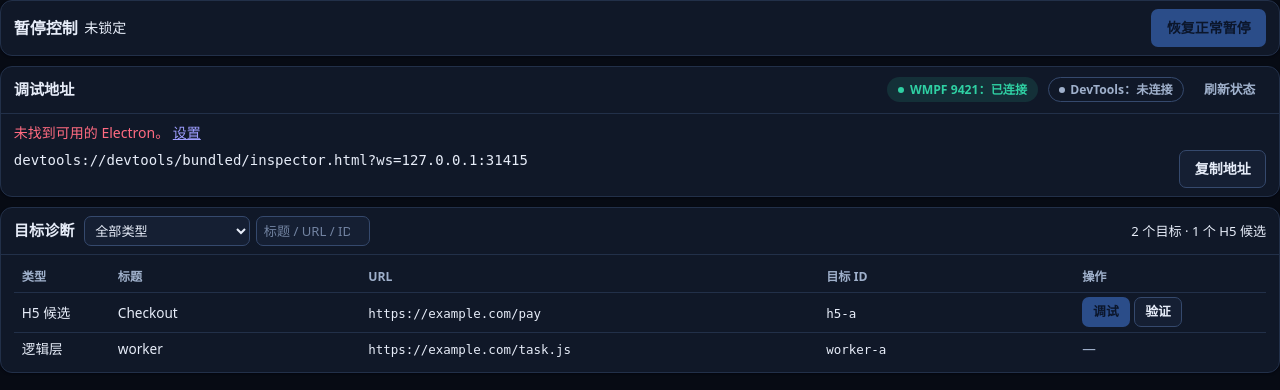
Test: DevtoolsView › filters targets locally by role and case-insensitive title, URL or ID
Select "H5 候选" in the dropdown with test id "target-role-filter" at (167, 231), box [84,216,250,246]
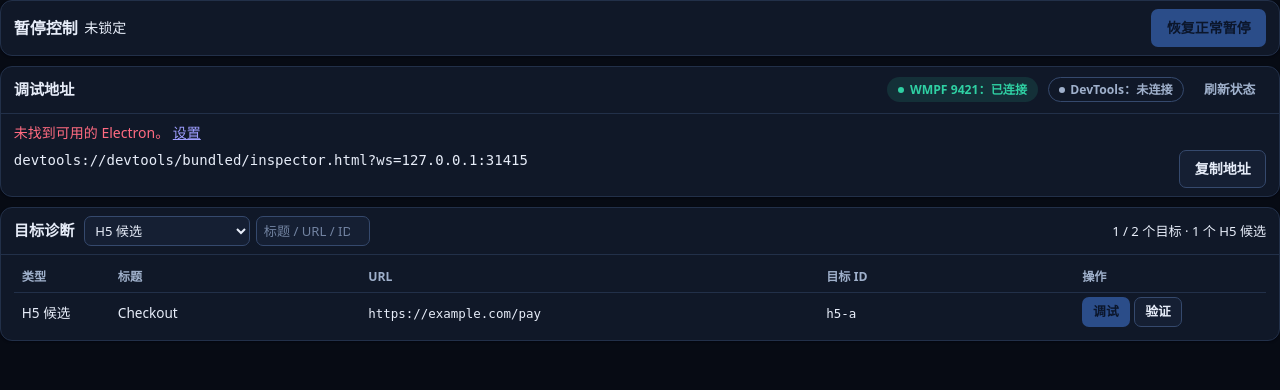
Expected: the number of rows with test id "target-row" is 1, [14,292,1266,332]
Type "CHECKOUT" into the search field with test id "target-search".
click(313, 231); type("CHECKOUT")  # box [256,216,370,246]
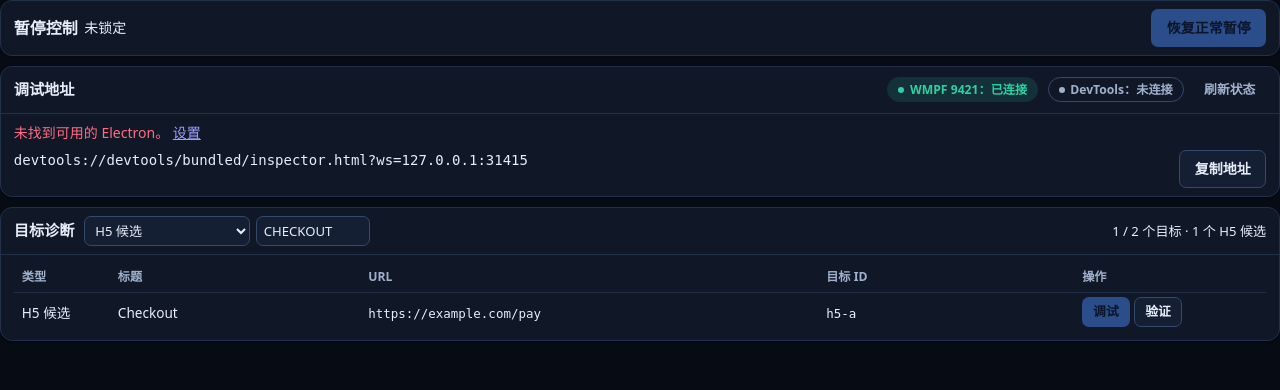
Expected: the row with test id "target-row" shows "h5-a", [826,306,856,321]
Replace the text in the search field with test id "target-search" with "example.com/pay" at (313, 231), box [256,216,370,246]
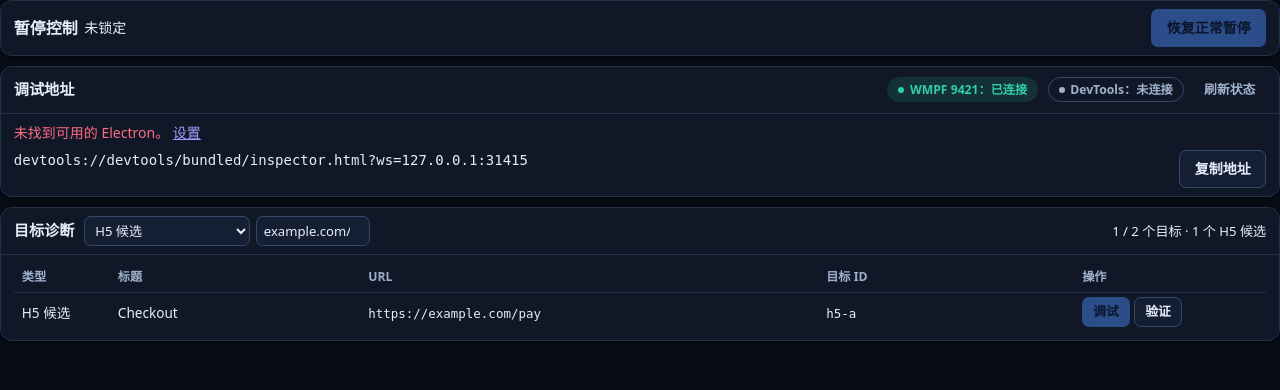
Expected: the number of rows with test id "target-row" is 1, [14,292,1266,332]
Replace the text in the search field with test id "target-search" with "H5-A" at (313, 231), box [256,216,370,246]
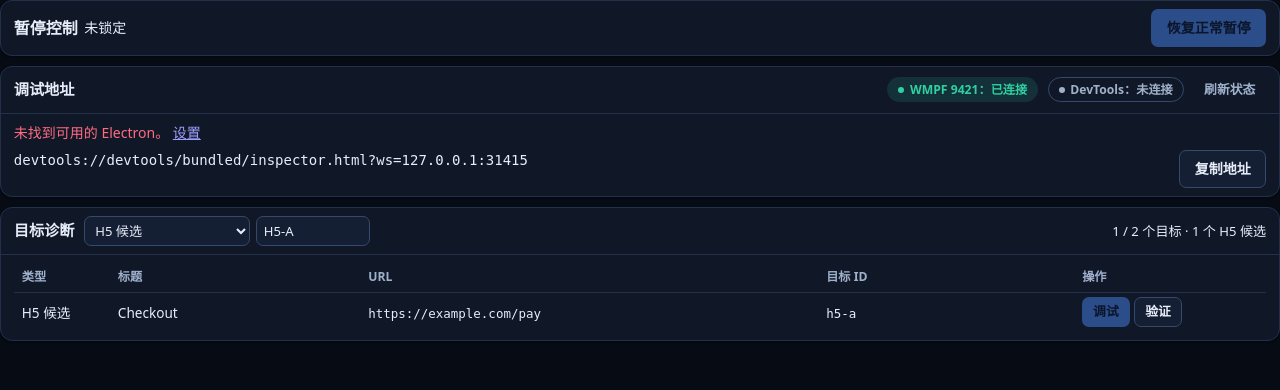
Expected: the number of rows with test id "target-row" is 1, [14,292,1266,332]
Replace the text in the search field with test id "target-search" with "missing" at (313, 231), box [256,216,370,246]
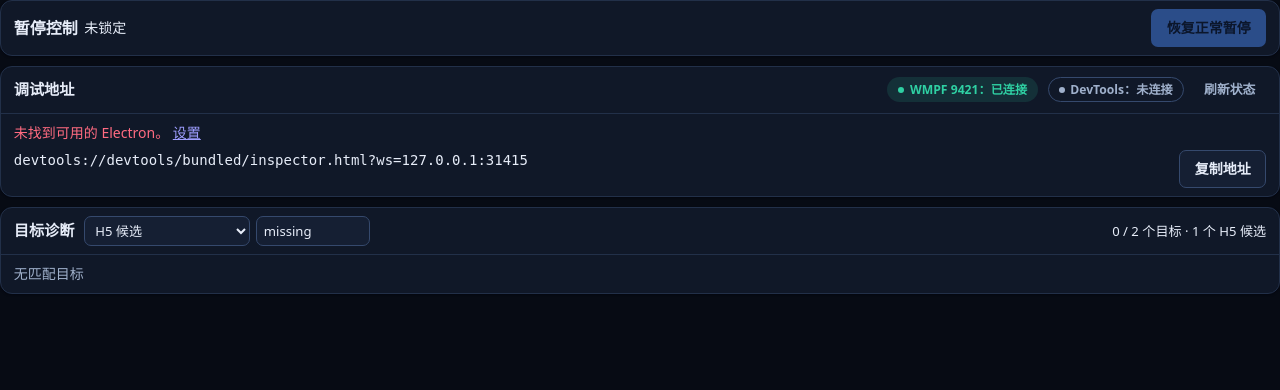
Expected: no rows with test id "target-row" are shown
Expected: the text with test id "target-summary" shows "0 / 2", [1112,222,1266,240]
